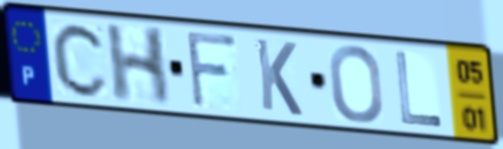C: (50, 19, 111, 100)
F: (184, 28, 240, 111)
H: (103, 23, 172, 108)
K: (252, 35, 305, 119)
L: (392, 49, 445, 130)
O: (327, 43, 386, 125)
